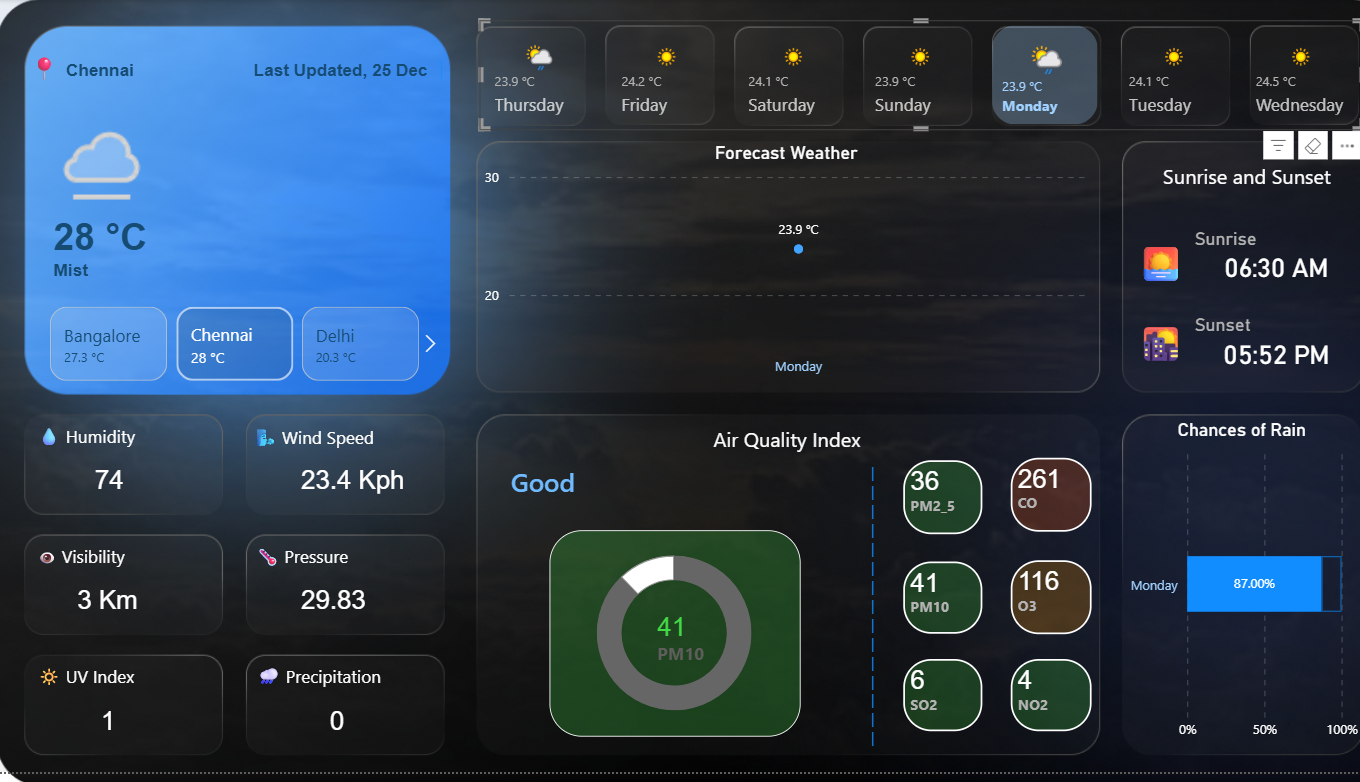

The page's visual inventory and layout, read from the dashboard file:
{"tool":"powerbi","page":{"name":"Page 1","canvas":[1280,720],"ordinal":0},"visuals":[{"type":"donutChart","fields":{"Y":["_measures.max_value","Sum(current.current.air_quality.pm10)"]},"box":[523.3,494.2,233.7,191.9],"z":0},{"type":"advancedSlicerVisual","fields":{"Values":["locations.location.name"]},"box":[33.7,281.4,394.2,79.1],"z":1000},{"type":"multiRowCard","fields":{"Values":["_measures.curr_temp_c"]},"box":[57,197.7,300,55.8],"z":2000},{"type":"multiRowCard","fields":{"Values":["current.current.condition.text"]},"box":[56.6,238.1,139.1,29.5],"z":3000},{"type":"multiRowCard","fields":{"Values":["locations.location.name"]},"box":[68.6,52.3,88.4,29.1],"z":4000},{"type":"multiRowCard","fields":{"Values":["_measures.last_updated_date_crr"]},"box":[243,52.3,184.9,29.1],"z":5000},{"type":"textbox","box":[33.7,44.2,45.3,46.5],"z":6000},{"type":"textbox","box":[41.9,390.7,140.7,38.4],"z":7000},{"type":"textbox","box":[246.5,614,140.7,38.4],"z":8000},{"type":"textbox","box":[245.3,502.3,140.7,38.4],"z":9000},{"type":"textbox","box":[41.9,614,140.7,38.4],"z":10000},{"type":"textbox","box":[41.9,502.3,140.7,38.4],"z":11000},{"type":"textbox","box":[243,391.9,140.7,38.4],"z":12000},{"type":"multiRowCard","fields":{"Values":["Sum(current.current.humidity)"]},"box":[95.3,429.1,100,66.3],"z":13000},{"type":"multiRowCard","fields":{"Values":["_measures.wind_speed"]},"box":[287.2,429.1,140.7,65.1],"z":14000},{"type":"multiRowCard","fields":{"Values":["_measures.visibility"]},"box":[79.1,540.7,147.7,66.3],"z":15000},{"type":"multiRowCard","fields":{"Values":["Sum(current.current.pressure_in)"]},"box":[287.2,540.7,100,66.3],"z":16000},{"type":"multiRowCard","fields":{"Values":["Sum(current.current.precip_in)"]},"box":[314,653.5,100,66.3],"z":17000},{"type":"multiRowCard","fields":{"Values":["Sum(current.current.uv)"]},"box":[101.2,653.5,100,66.3],"z":18000},{"type":"cardVisual","fields":{"Data":["Min(current.current.condition.icon)"]},"box":[28.3,89.6,173.3,116.7],"z":19000},{"type":"advancedSlicerVisual","fields":{"Values":["forecast_day.day_name"]},"box":[458.1,19.8,822.1,102.3],"z":20000},{"type":"lineChart","title":"Forecast Weather","fields":{"Y":["Sum(forecast_day.forecast.forecastday.day.avgtemp_c)"],"Category":["forecast_day.day_name"]},"box":[458.1,132.6,570.9,227.9],"z":21000},{"type":"textbox","box":[1064,147.7,216.3,58.1],"z":22000},{"type":"card","title":"Sunrise","fields":{"Values":["Min(forecast_day.sunrise)"]},"box":[1118.6,212.8,161.6,54.7],"z":23000},{"type":"card","title":" Sunset","fields":{"Values":["Min(forecast_day.sunset)"]},"box":[1118.6,293,161.6,54.7],"z":24000},{"type":"textbox","box":[1065.1,293,53.5,55.8],"z":25000},{"type":"textbox","box":[1065.1,218.6,70.9,67.4],"z":26000},{"type":"hundredPercentStackedBarChart","title":"Chances of Rain","fields":{"Category":["forecast_day.day_name"],"Y":["Sum(forecast_day.forecast.forecastday.day.daily_chance_of_rain)","_measures.left_value_rain"]},"box":[1054.7,390.7,225.6,307],"z":27000},{"type":"textbox","box":[646.5,391.9,195.3,40.7],"z":28000},{"type":"multiRowCard","fields":{"Values":["Sum(current.current.air_quality.co)"]},"box":[952.3,426.7,75.6,68.6],"z":29000},{"type":"multiRowCard","fields":{"Values":["Sum(current.current.air_quality.o3)"]},"box":[952.3,522.1,75.6,68.6],"z":30000},{"type":"multiRowCard","fields":{"Values":["Sum(current.current.air_quality.no2)"]},"box":[952.3,614,75.6,67.4],"z":31000},{"type":"multiRowCard","fields":{"Values":["Sum(current.current.air_quality.pm2_5)"]},"box":[852.3,429.1,73.3,68.6],"z":32000},{"type":"multiRowCard","fields":{"Values":["Sum(current.current.air_quality.pm10)"]},"box":[852.3,523.3,73.3,67.4],"z":33000},{"type":"multiRowCard","fields":{"Values":["Sum(current.current.air_quality.so2)"]},"box":[852.3,614,73.3,67.4],"z":34000},{"type":"textbox","box":[817.4,426.7,34.9,293],"z":35000},{"type":"multiRowCard","fields":{"Values":["Sum(current.current.air_quality.pm10)"]},"box":[618.6,566.3,73.3,67.4],"z":36000},{"type":"cardVisual","fields":{"Data":["_measures.air_quality_status"]},"box":[458.1,394.2,298.8,108.1],"z":37001}]}

Visuals, with their boxes on the page's 1280x720 design canvas (x1, y1, x2, y2). These are canvas units, not pixel positions in the 1360x782 screenshot, which may show the page scaled, cropped or inside an application window:
donutChart - _measures.max_value x Sum(current.current.air_quality.pm10): [523,494,757,686]
advancedSlicerVisual - locations.location.name: [34,281,428,360]
multiRowCard - _measures.curr_temp_c: [57,198,357,254]
multiRowCard - current.current.condition.text: [57,238,196,268]
multiRowCard - locations.location.name: [69,52,157,81]
multiRowCard - _measures.last_updated_date_crr: [243,52,428,81]
textbox: [34,44,79,91]
textbox: [42,391,183,429]
textbox: [246,614,387,652]
textbox: [245,502,386,541]
textbox: [42,614,183,652]
textbox: [42,502,183,541]
textbox: [243,392,384,430]
multiRowCard - Sum(current.current.humidity): [95,429,195,495]
multiRowCard - _measures.wind_speed: [287,429,428,494]
multiRowCard - _measures.visibility: [79,541,227,607]
multiRowCard - Sum(current.current.pressure_in): [287,541,387,607]
multiRowCard - Sum(current.current.precip_in): [314,654,414,720]
multiRowCard - Sum(current.current.uv): [101,654,201,720]
cardVisual - Min(current.current.condition.icon): [28,90,202,206]
advancedSlicerVisual - forecast_day.day_name: [458,20,1280,122]
"Forecast Weather" lineChart: [458,133,1029,360]
textbox: [1064,148,1280,206]
"Sunrise" card: [1119,213,1280,268]
" Sunset" card: [1119,293,1280,348]
textbox: [1065,293,1119,349]
textbox: [1065,219,1136,286]
"Chances of Rain" hundredPercentStackedBarChart: [1055,391,1280,698]
textbox: [646,392,842,433]
multiRowCard - Sum(current.current.air_quality.co): [952,427,1028,495]
multiRowCard - Sum(current.current.air_quality.o3): [952,522,1028,591]
multiRowCard - Sum(current.current.air_quality.no2): [952,614,1028,681]
multiRowCard - Sum(current.current.air_quality.pm2_5): [852,429,926,498]
multiRowCard - Sum(current.current.air_quality.pm10): [852,523,926,591]
multiRowCard - Sum(current.current.air_quality.so2): [852,614,926,681]
textbox: [817,427,852,720]
multiRowCard - Sum(current.current.air_quality.pm10): [619,566,692,634]
cardVisual - _measures.air_quality_status: [458,394,757,502]
